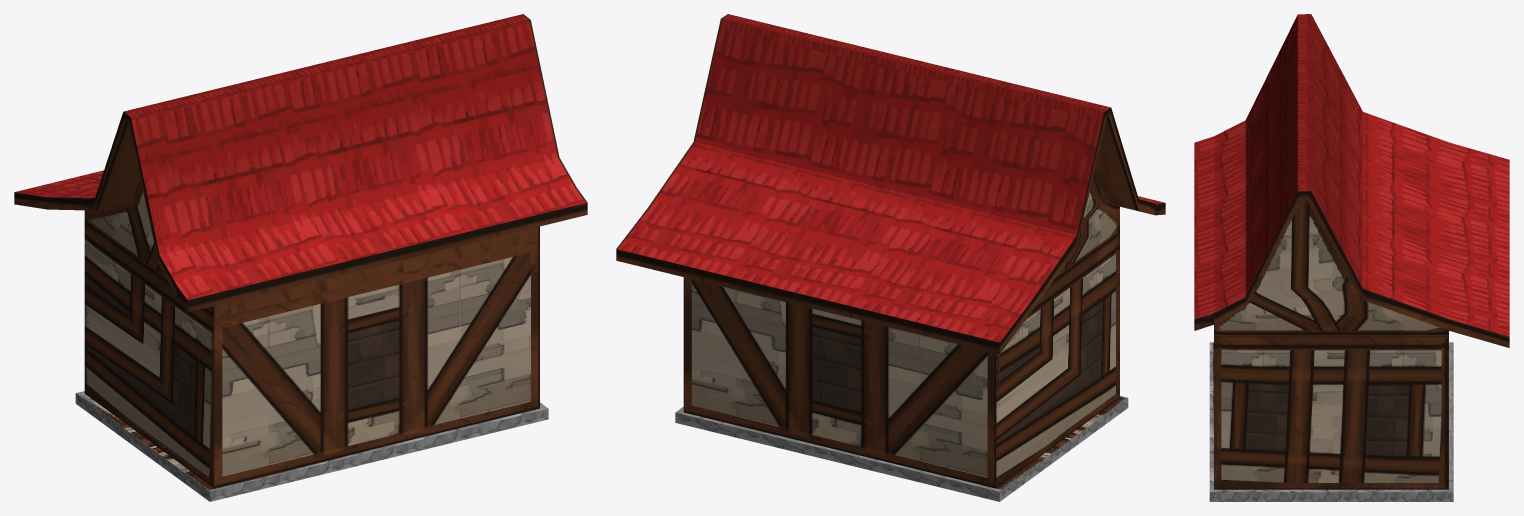
File: House Base4_D.fbx
3 views of the same model, side by side, from view 1: azimuth 30°, elevation 25°; view 2: azimuth 150°, elevation 25°; view 3: azimuth 270°, elevation 25° (orthographic). The views are drawn at different scales.
Parts seen in each view (by area): view 1: House Base 4d, House Base 4d_col; view 2: House Base 4d, House Base 4d_col; view 3: House Base 4d, House Base 4d_col.
Boxes of the visible parts, left/top/right/bottom form: House Base 4d: left=14, top=14, right=587, bottom=501; House Base 4d_col: left=78, top=183, right=541, bottom=491; House Base 4d: left=616, top=14, right=1165, bottom=501; House Base 4d_col: left=683, top=174, right=1126, bottom=491; House Base 4d: left=1194, top=14, right=1509, bottom=501; House Base 4d_col: left=1209, top=195, right=1453, bottom=492.
Size of the model in its own units: 1047 by 893 by 787.
